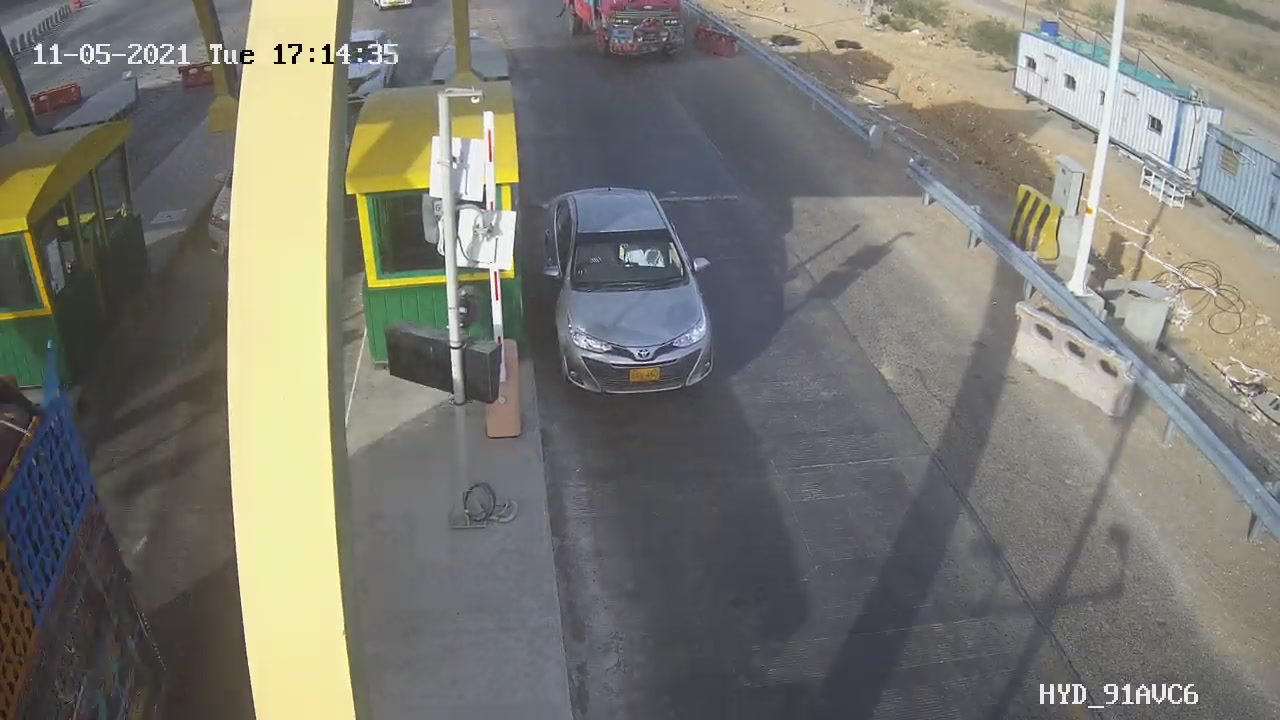F1: (518, 170, 747, 417)
